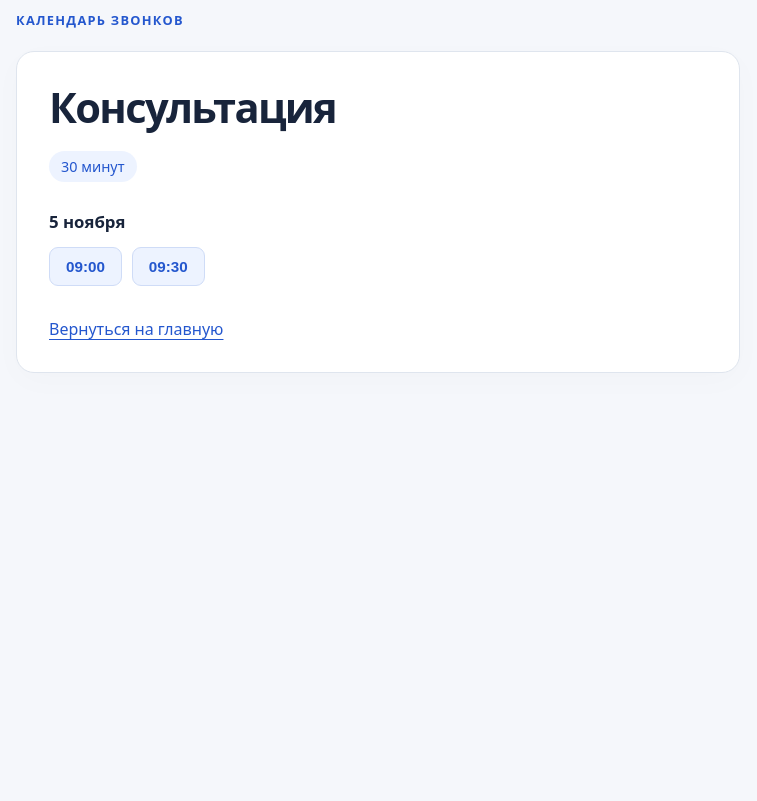
Test: Путь гостя › показывает подсказку про лимит темы
Click the button "09:00".
click(85, 267)  # box [49,248,122,286]
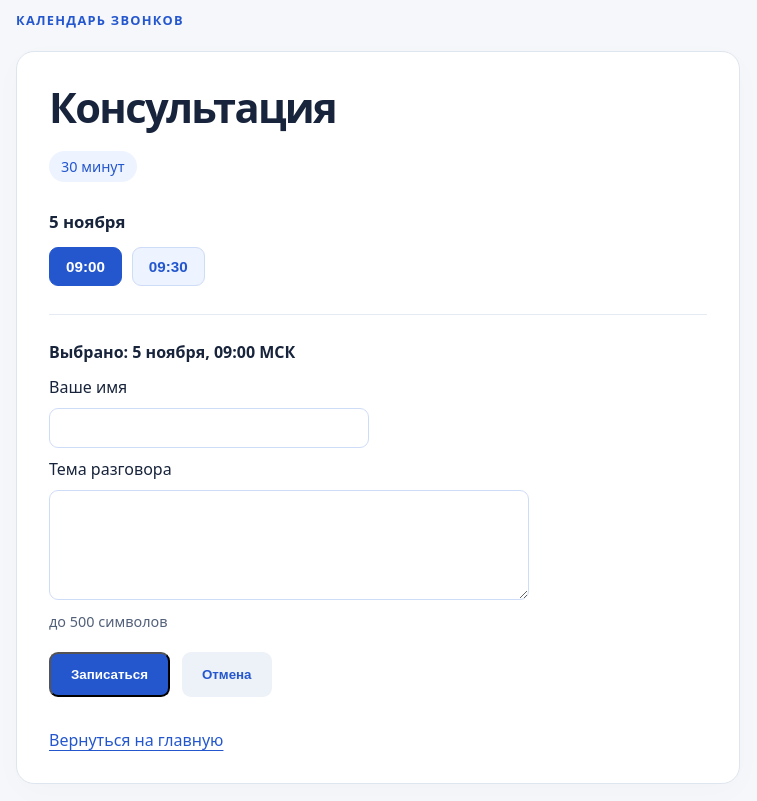
Expected: the text "до 500 символов" is shown, [49,610,168,634]
